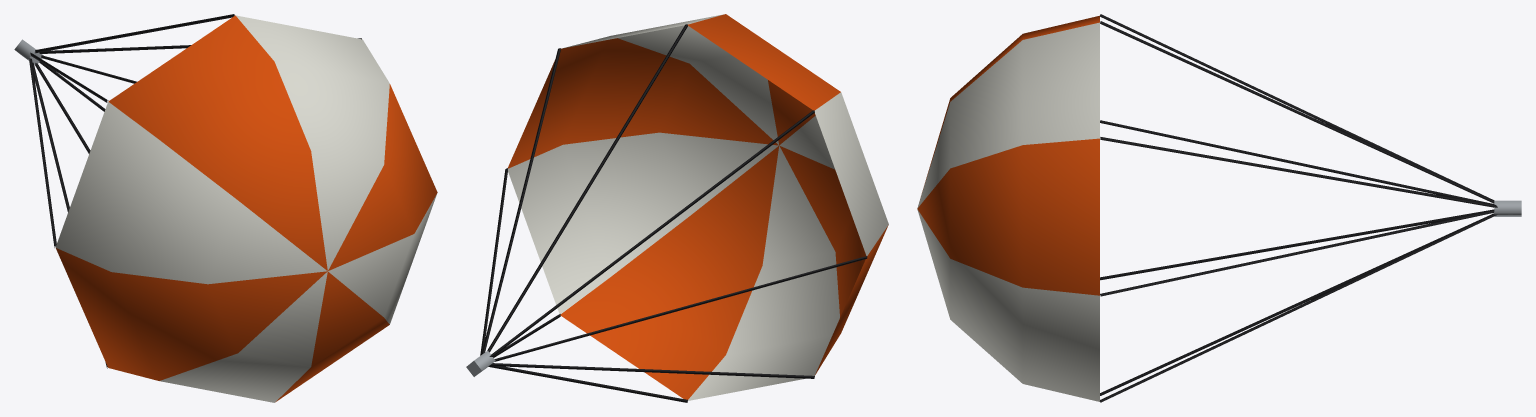
File: tow_drogue.glb
3 views of the same model, side by side, from view 1: azimuth 30°, elevation 25°; view 2: azimuth 150°, elevation 25°; view 3: azimuth 270°, elevation 25° (orthographic).
Parts seen in each view (by area): view 1: tow_drogue_LOD0; view 2: tow_drogue_LOD0; view 3: tow_drogue_LOD0.
Part boxes in pixels (left/top/right/bottom): tow_drogue_LOD0: left=14, top=14, right=437, bottom=402; tow_drogue_LOD0: left=466, top=14, right=888, bottom=402; tow_drogue_LOD0: left=917, top=14, right=1521, bottom=402.
Size of what is drawn, in the model's own units: 0.9054 by 0.9062 by 1.32.
